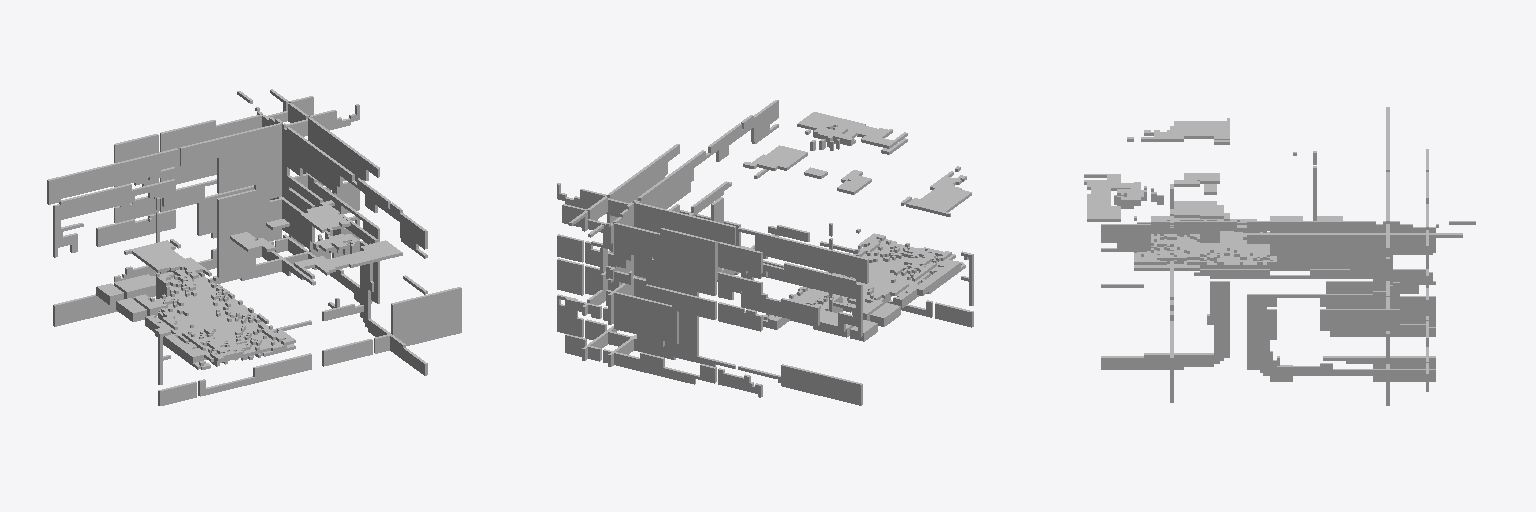
3 renders of one model, left to right at view 1: azimuth 30°, elevation 25°; view 2: azimuth 150°, elevation 25°; view 3: azimuth 270°, elevation 25°, orthographic.
Visible parts, largest first — view 1: 蓝光; view 2: 蓝光; view 3: 蓝光.
Part boxes in pixels (bbox=[...]): 蓝光: bbox=[47, 89, 461, 405]; 蓝光: bbox=[557, 100, 973, 405]; 蓝光: bbox=[1084, 107, 1475, 405].
Bounding box in the file's own units: 109 × 49 × 118.